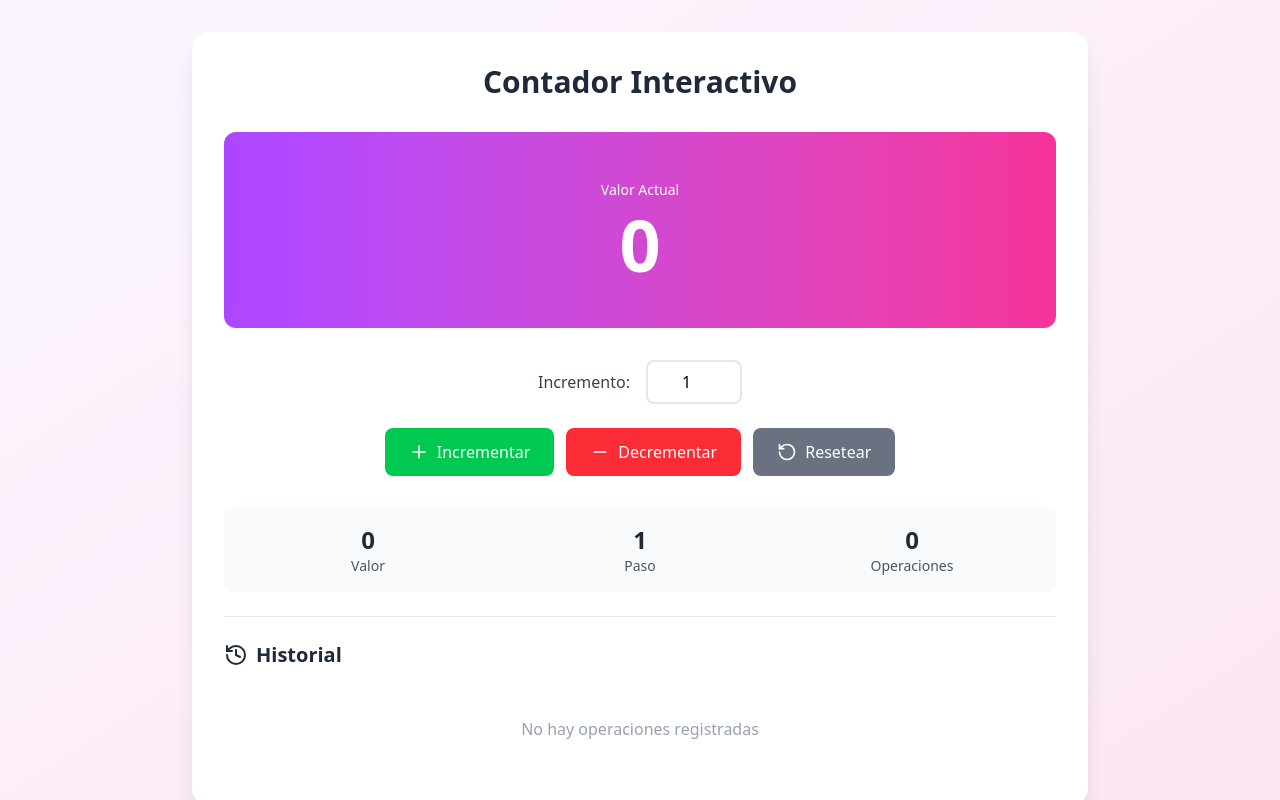
Test: Bloque de pruebas para App de Counter › Funcionalidad de incremento › debe incrementar el contador en 1
Expected: the text with test id "counter-value" reads "0", left=619, top=195, right=661, bottom=293
Click the button labelled "Incrementar" at {"x": 469, "y": 452}, box left=385, top=428, right=554, bottom=476
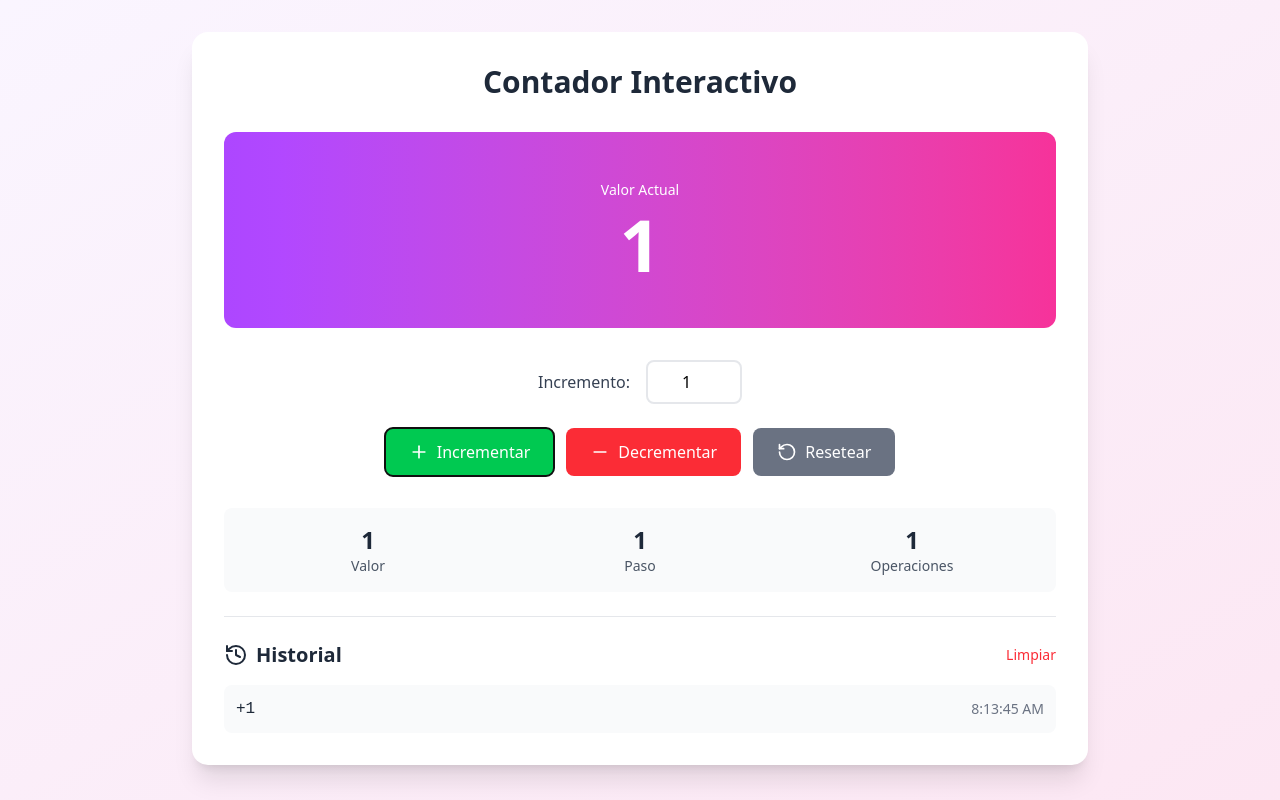
Result: the text with test id "counter-value" reads "1" at left=619, top=195, right=661, bottom=293
